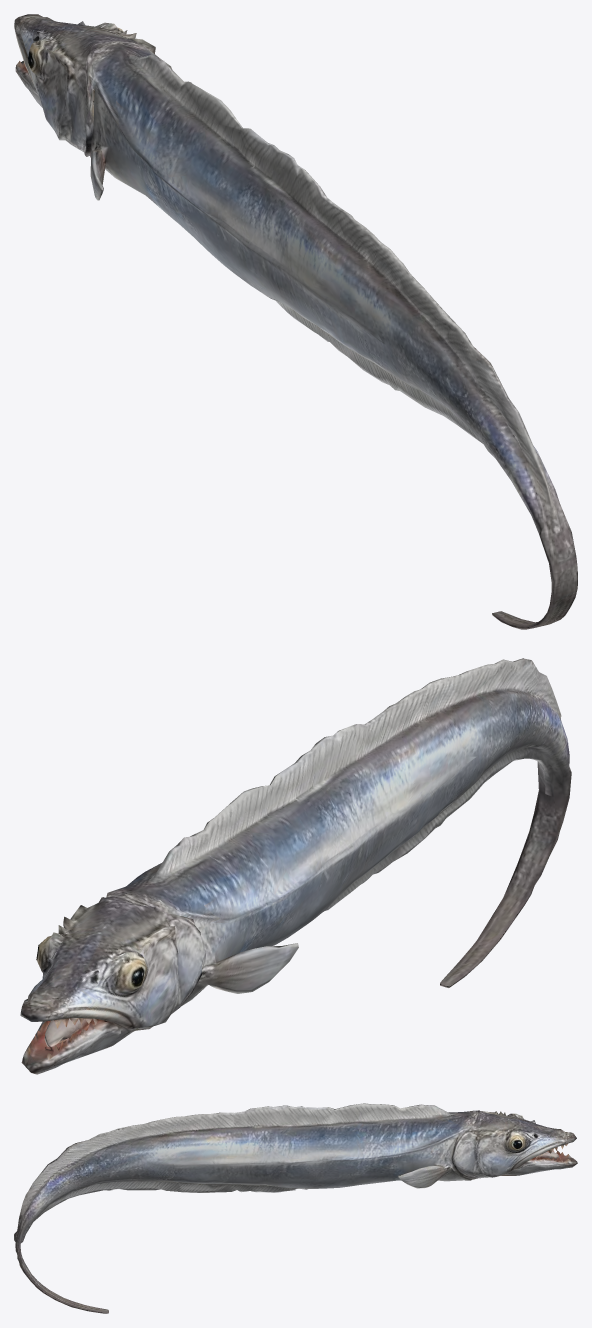
Rendered from hairtail.glb.
3 views of the same model, one above another, from view 1: azimuth 30°, elevation 25°; view 2: azimuth 150°, elevation 25°; view 3: azimuth 270°, elevation 25° (orthographic). The views are drawn at different scales.
Parts seen in each view (by area): view 1: tripo_node_225f9def-f35d-4e21-8a17-35006e35a8d7; view 2: tripo_node_225f9def-f35d-4e21-8a17-35006e35a8d7; view 3: tripo_node_225f9def-f35d-4e21-8a17-35006e35a8d7.
Part boxes in pixels (bbox=[...]): tripo_node_225f9def-f35d-4e21-8a17-35006e35a8d7: bbox=[14, 14, 577, 629]; tripo_node_225f9def-f35d-4e21-8a17-35006e35a8d7: bbox=[20, 658, 571, 1074]; tripo_node_225f9def-f35d-4e21-8a17-35006e35a8d7: bbox=[14, 1103, 577, 1313].
Bounding box in the file's own units: 0.186 × 0.3837 × 1.
1 material, 1 textured.
